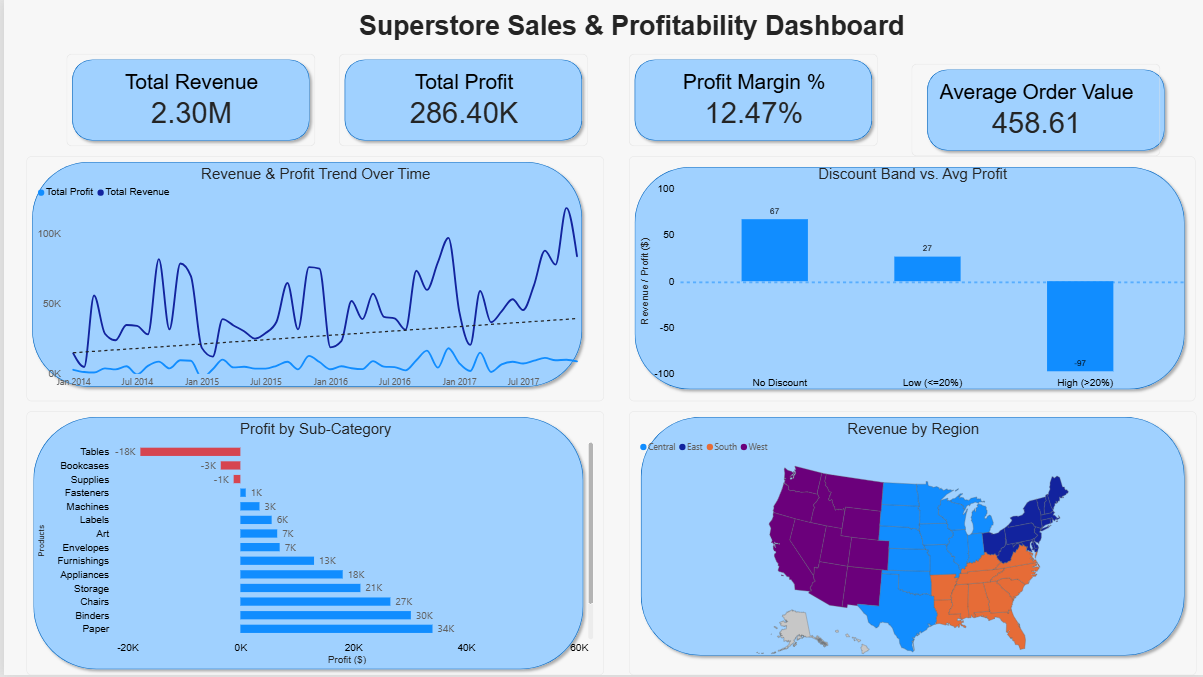

The dashboard page shown, as its layout file describes it:
{"tool":"powerbi","page":{"name":"Dashboard","canvas":[1920,1080],"ordinal":0},"visuals":[{"type":"group","id":"g1","title":"Background","box":[36,86,1862,994],"z":0},{"type":"shape","box":[100,86,398,148],"z":0,"group":"g1"},{"type":"textbox","box":[568,16,884,70],"z":1000},{"type":"shape","box":[536,86,398,148],"z":1000,"group":"g1"},{"type":"cardVisual","fields":{"Data":["_Measures.Total Revenue"]},"box":[100,86,398,148],"z":2000},{"type":"shape","box":[1000,86,398,148],"z":2000,"group":"g1"},{"type":"cardVisual","fields":{"Data":["_Measures.Total Profit"]},"box":[536,86,398,148],"z":3000},{"type":"shape","box":[1468,102,398,148],"z":3000,"group":"g1"},{"type":"cardVisual","fields":{"Data":["_Measures.Profit Margin %"]},"box":[1000,86,398,148],"z":4000},{"type":"shape","box":[36,250,898,378],"z":4000,"group":"g1"},{"type":"cardVisual","fields":{"Data":["_Measures.Average Order Value"]},"box":[1452,102,398,148],"z":5000},{"type":"shape","box":[38,658,898,422],"z":5000,"group":"g1"},{"type":"lineChart","title":"Revenue & Profit Trend Over Time","fields":{"Category":["Fact_Orders.Order Date.Variation.Date Hierarchy.Year","Fact_Orders.Order Date.Variation.Date Hierarchy.Month"],"Y":["_Measures.Total Profit","_Measures.Total Revenue"]},"box":[36,250,924,392],"z":6000},{"type":"shape","box":[1000,258,898,374],"z":6000,"group":"g1"},{"type":"clusteredBarChart","title":"Profit by Sub-Category","fields":{"Category":["Dim_Product.Sub-Category"],"Y":["_Measures.Total Profit"]},"box":[36,658,924,422],"z":7000},{"type":"shape","box":[1010,658,888,400],"z":7000,"group":"g1"},{"type":"clusteredColumnChart","title":"Discount Band vs. Avg Profit","fields":{"Category":["Fact_Orders.Discount Band"],"Y":["_Measures.Avg Profit per Line"]},"box":[1000,250,906,392],"z":8000},{"type":"shapeMap","title":" Revenue by Region","fields":{"Category":["Dim_Geography.State"],"Series":["Dim_Geography.Region"],"Value":["_Measures.Total Revenue"]},"box":[1000,658,908,422],"z":9000}]}

Visuals, with their boxes in screenshot pixels (x1, y1, x2, y2), scaled from the page's 1920x1080 canvas onto the 1203x677 screenshot:
"Background" group: (left=23, top=54, right=1189, bottom=676)
shape: (left=63, top=54, right=312, bottom=147)
textbox: (left=356, top=10, right=910, bottom=54)
shape: (left=336, top=54, right=585, bottom=147)
cardVisual - _Measures.Total Revenue: (left=63, top=54, right=312, bottom=147)
shape: (left=627, top=54, right=876, bottom=147)
cardVisual - _Measures.Total Profit: (left=336, top=54, right=585, bottom=147)
shape: (left=920, top=64, right=1169, bottom=157)
cardVisual - _Measures.Profit Margin %: (left=627, top=54, right=876, bottom=147)
shape: (left=23, top=157, right=585, bottom=394)
cardVisual - _Measures.Average Order Value: (left=910, top=64, right=1159, bottom=157)
shape: (left=24, top=412, right=586, bottom=676)
"Revenue & Profit Trend Over Time" lineChart: (left=23, top=157, right=602, bottom=402)
shape: (left=627, top=162, right=1189, bottom=396)
"Profit by Sub-Category" clusteredBarChart: (left=23, top=412, right=602, bottom=676)
shape: (left=633, top=412, right=1189, bottom=663)
"Discount Band vs. Avg Profit" clusteredColumnChart: (left=627, top=157, right=1194, bottom=402)
" Revenue by Region" shapeMap: (left=627, top=412, right=1195, bottom=676)
